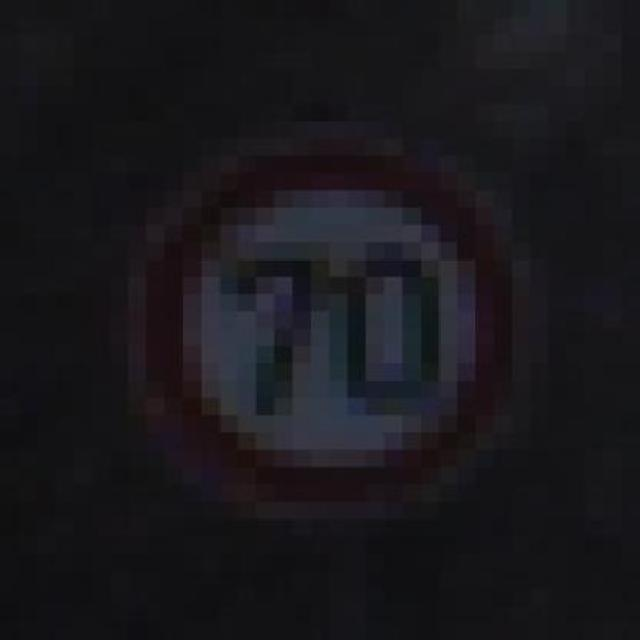forb_speed_over_70: (142, 146, 520, 499)
